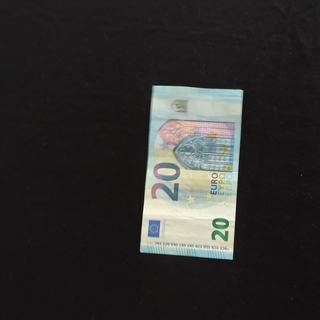20EUROFront: (139, 85, 243, 261)
